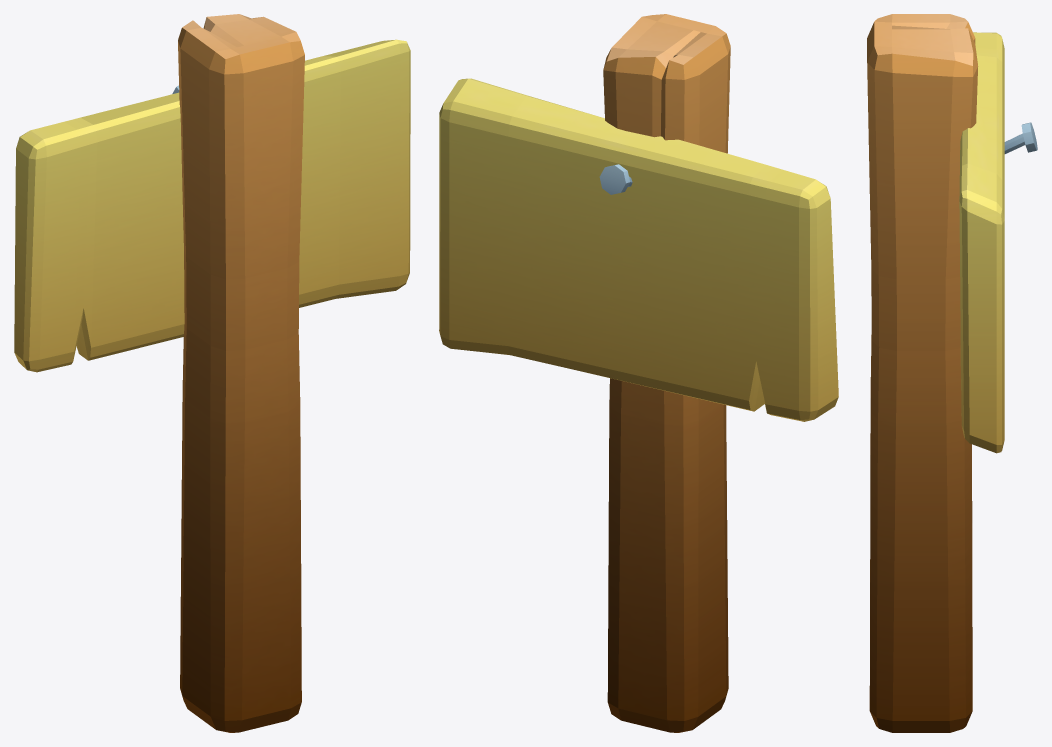
Rendered from game_sign.fbx.
3 views of the same model, side by side, from view 1: azimuth 30°, elevation 25°; view 2: azimuth 150°, elevation 25°; view 3: azimuth 270°, elevation 25° (orthographic).
Visible parts, largest first — view 1: Cube; view 2: Cube; view 3: Cube.
Boxes of the visible parts, left/top/right/bottom form: Cube: left=14, top=14, right=410, bottom=732; Cube: left=439, top=14, right=838, bottom=732; Cube: left=867, top=14, right=1037, bottom=732.
Bounding box in the file's own units: 10.62 × 17.89 × 4.03.
